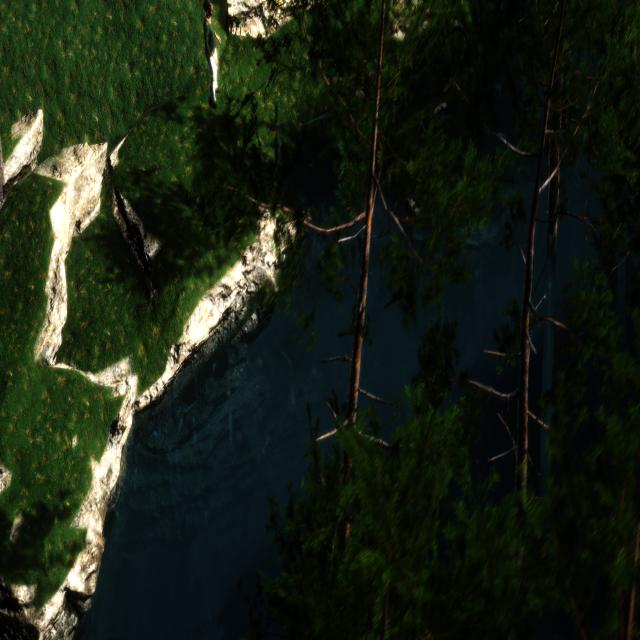Human: (200, 0, 222, 106)
